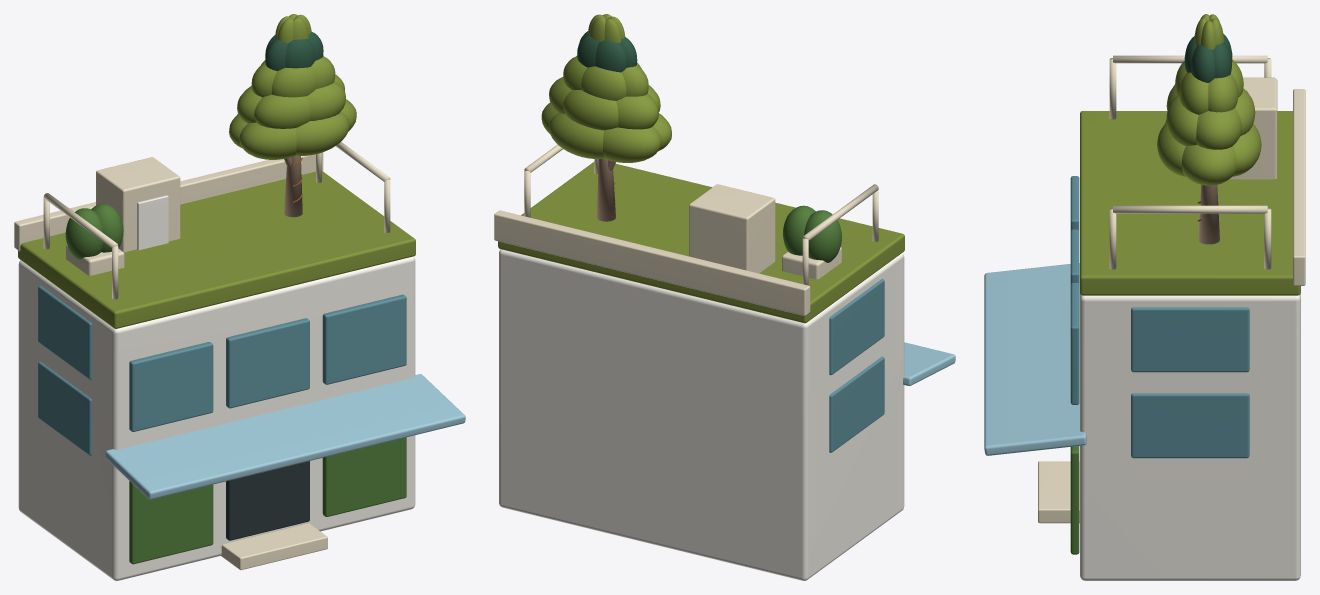
Rendered from 09_rooftop_garden_building.glb.
3 views of the same model, side by side, from view 1: azimuth 30°, elevation 25°; view 2: azimuth 150°, elevation 25°; view 3: azimuth 270°, elevation 25° (orthographic). The views are drawn at different scales.
Parts seen in each view (by area): view 1: Building volume, Roof garden, Shop awning, Upstairs window.002, Upstairs window, Upstairs window.001, Ground floor window, Ground floor window.002, Ground floor window.001, Roof access hut, Roof raised edge, Side window (+17 smaller); view 2: Building volume, Roof garden, Roof raised edge, Roof access hut, Side window.001, Side window, Layered canopy.002, Layered canopy.001, Layered canopy.006, Shop awning, Planter shrub, Layered canopy.007 (+7 smaller); view 3: Building volume, Roof garden, Shop awning, Side window.003, Side window.002, Roof access hut, Roof raised edge, Entrance step, Layered canopy, Layered canopy.005, Roof railing.001, Upstairs window.002 (+16 smaller).
Part boxes in pixels (box(x1,y1,x2,y2)): Building volume: box(18, 256, 415, 580); Roof garden: box(18, 171, 415, 328); Shop awning: box(105, 374, 465, 499); Upstairs window.002: box(322, 294, 406, 384); Upstairs window: box(129, 342, 213, 431); Upstairs window.001: box(226, 318, 309, 408); Ground floor window: box(129, 481, 213, 564); Ground floor window.002: box(322, 437, 406, 516); Ground floor window.001: box(226, 461, 309, 540); Roof access hut: box(96, 157, 180, 252); Roof raised edge: box(14, 152, 323, 251); Side window: box(38, 361, 91, 455); Building volume: box(499, 249, 904, 580); Roof garden: box(498, 162, 904, 323); Roof raised edge: box(494, 210, 810, 315); Roof access hut: box(689, 184, 775, 273); Side window.001: box(829, 279, 884, 375); Side window: box(829, 356, 884, 452); Layered canopy.002: box(603, 126, 661, 162); Layered canopy.001: box(549, 113, 603, 158); Layered canopy.006: box(563, 90, 618, 130); Shop awning: box(903, 342, 955, 385); Planter shrub: box(804, 210, 841, 262); Layered canopy.007: box(616, 93, 658, 129); Building volume: box(1080, 293, 1300, 580); Roof garden: box(1080, 111, 1300, 295); Shop awning: box(984, 263, 1086, 455); Side window.003: box(1131, 307, 1249, 372); Side window.002: box(1131, 393, 1249, 458); Roof access hut: box(1229, 77, 1277, 179); Roof raised edge: box(1293, 89, 1305, 285); Entrance step: box(1038, 461, 1079, 523); Layered canopy: box(1181, 145, 1236, 185); Layered canopy.005: box(1196, 108, 1241, 149); Roof railing.001: box(1113, 205, 1267, 213); Upstairs window.002: box(1070, 282, 1079, 404).
Bounding box in the file's own units: 2.62 × 3.69 × 2.03.
